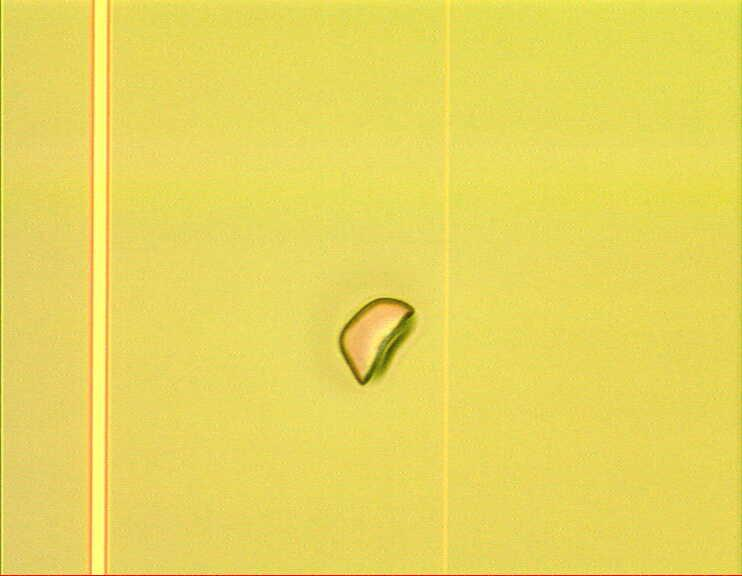PIQ PARTICLE: (332, 291, 425, 393)
